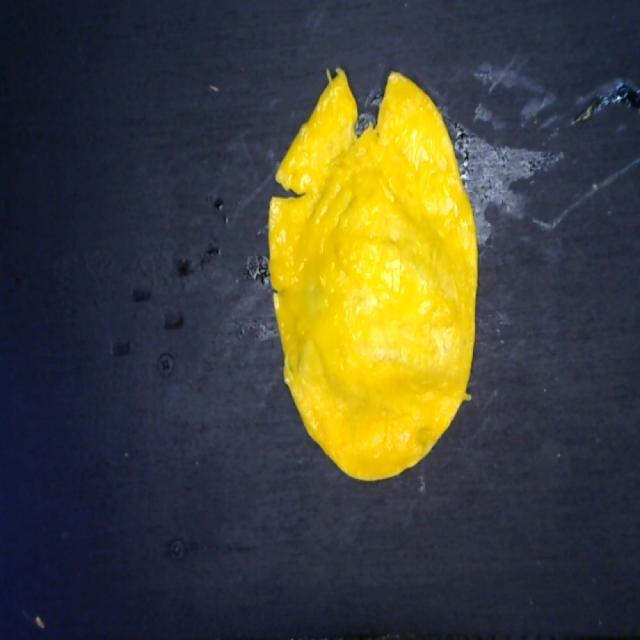biodegradable: (262, 63, 482, 488)
